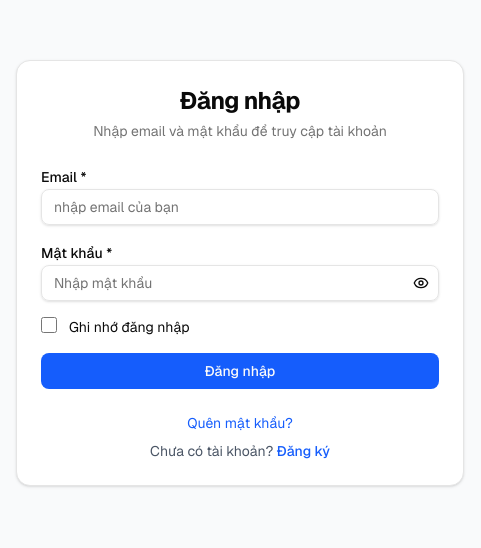
Test: LoginPage › handles network error
Type "test@example.com" into the field labelled "Email *" at {"x": 240, "y": 207}, box x1=41 y1=189 x2=439 y2=225
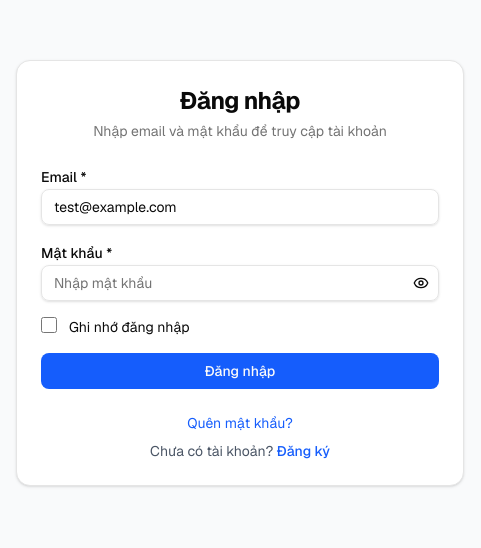
Type "password123" into the password field labelled "Mật khẩu *" at {"x": 240, "y": 283}, box x1=41 y1=265 x2=439 y2=301
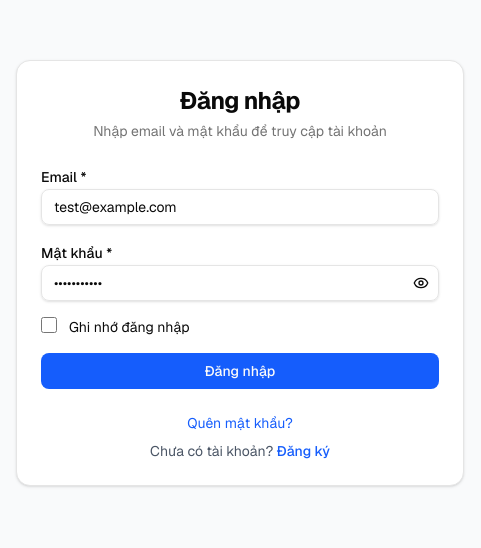
Click the button "Đăng nhập" at {"x": 240, "y": 371}, box x1=41 y1=353 x2=439 y2=389
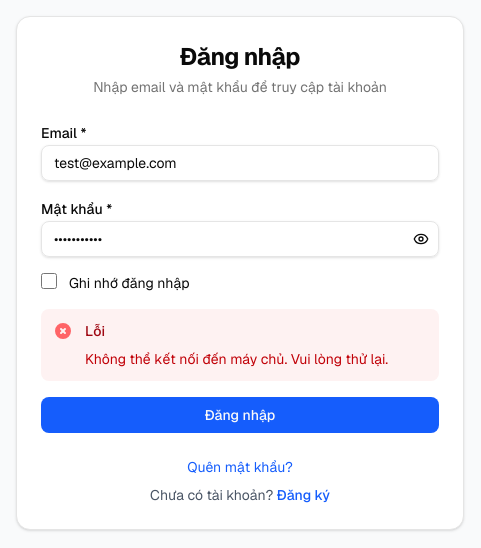
expect the text "Không thể kết nối đến máy chủ. Vui lòng thử lại." is shown: met, box x1=85 y1=349 x2=388 y2=369
